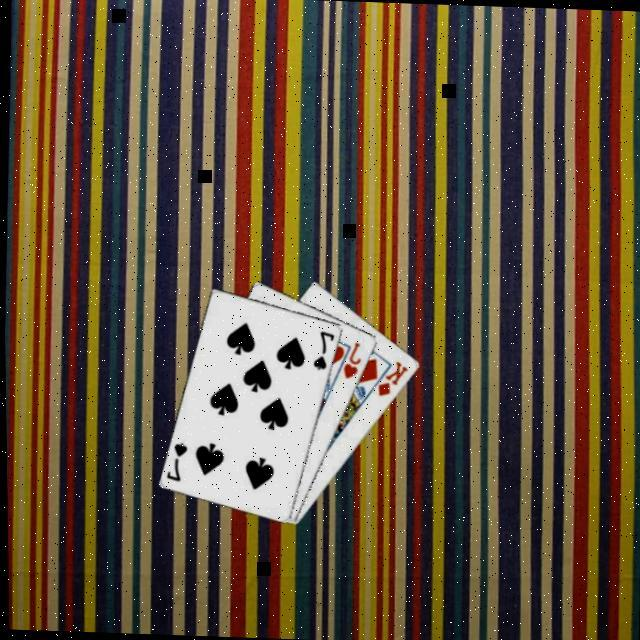7S: (310, 326, 339, 372), (163, 437, 192, 483)
JH: (340, 337, 364, 380)
KD: (375, 356, 413, 399)
